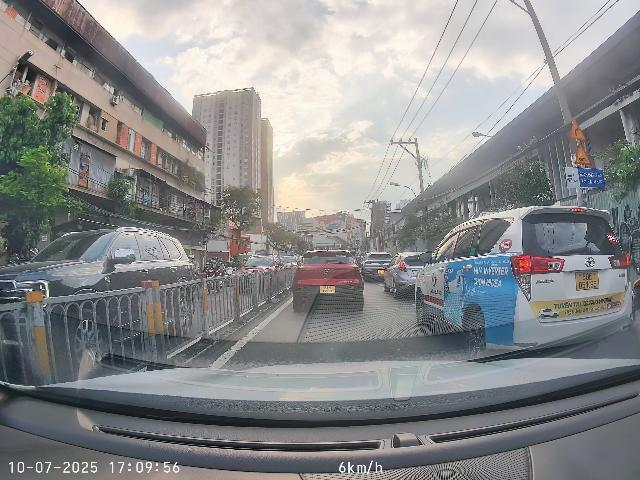201-cho-ngoat-nguy-hiem: (570, 119, 586, 140)
245-di-cham: (575, 142, 592, 166)
